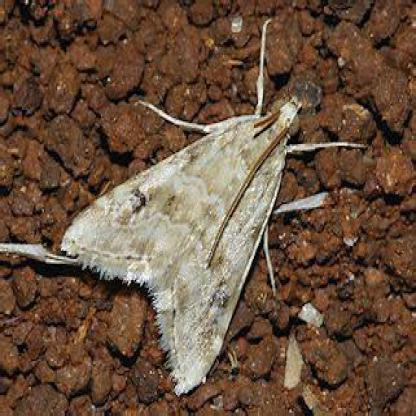Hellula undalis: (3, 16, 383, 396)
